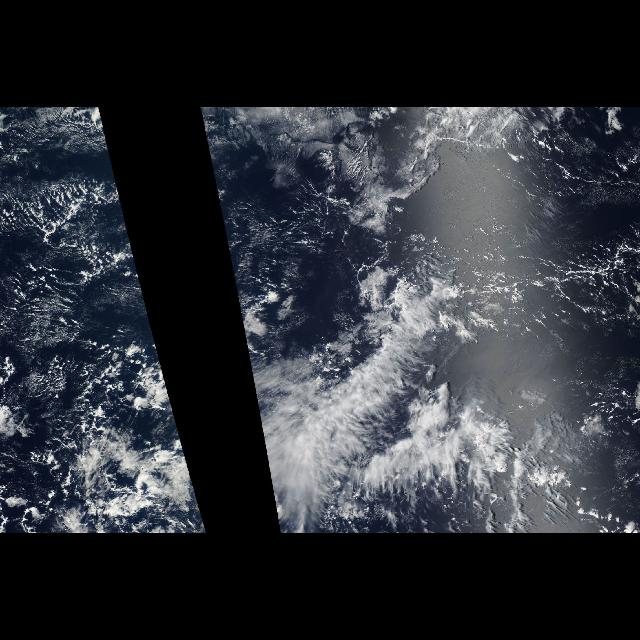Gravel: (1, 130, 183, 450), (448, 166, 638, 438), (204, 130, 298, 450)
Sugar: (11, 298, 83, 406)
